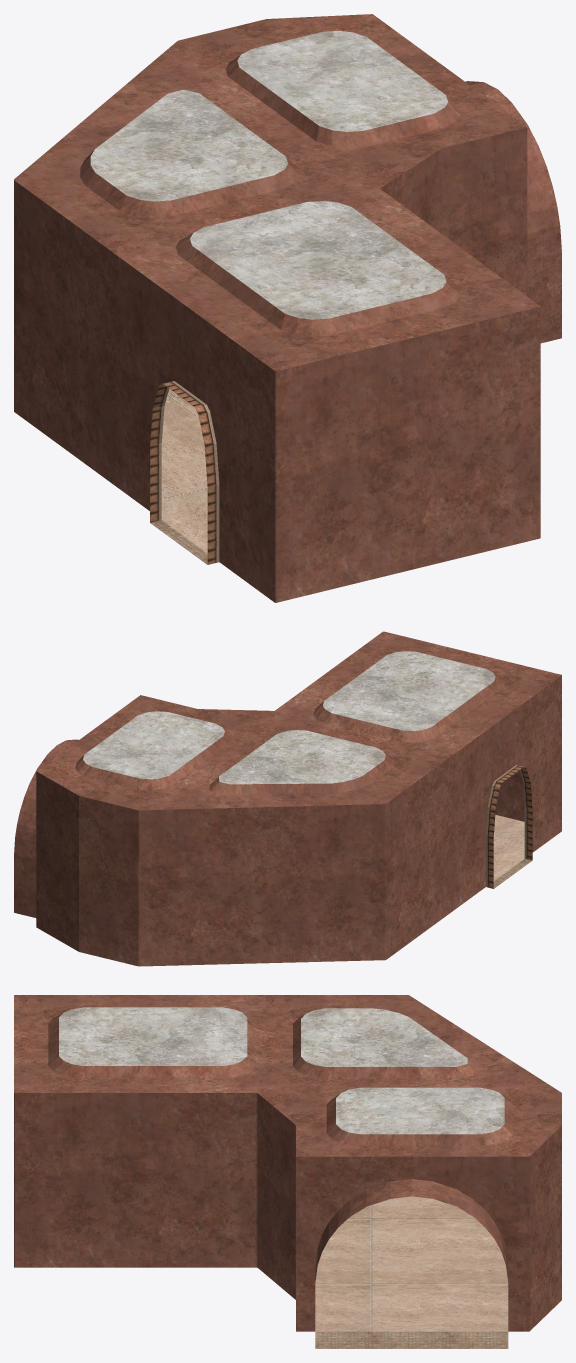
Rendered from thm_nboo_cantina_r15_back_entrance_mesh_r15.fbx.
3 views of the same model, one above another, from view 1: azimuth 30°, elevation 25°; view 2: azimuth 150°, elevation 25°; view 3: azimuth 270°, elevation 25° (orthographic). The views are drawn at different scales.
Visible parts, largest first — view 1: mesh_node; view 2: mesh_node; view 3: mesh_node.
Boxes of the visible parts, x1,y1,x2,y2 form: mesh_node: [14, 14, 561, 602]; mesh_node: [14, 631, 561, 966]; mesh_node: [14, 995, 561, 1348].
Size of the model in its own units: 11.25 by 5.23 by 14.21.
